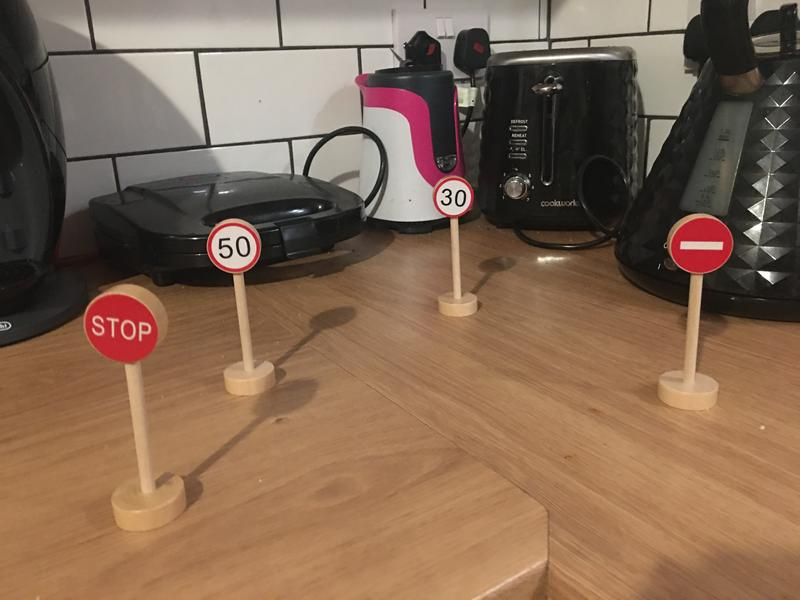Traffic_Sign_30: (433, 179, 472, 216)
Traffic_Sign_50: (206, 222, 265, 272)
Traffic_Sign_No_Entry: (670, 215, 735, 276)
Traffic_Sign_Stop: (85, 292, 159, 363)
